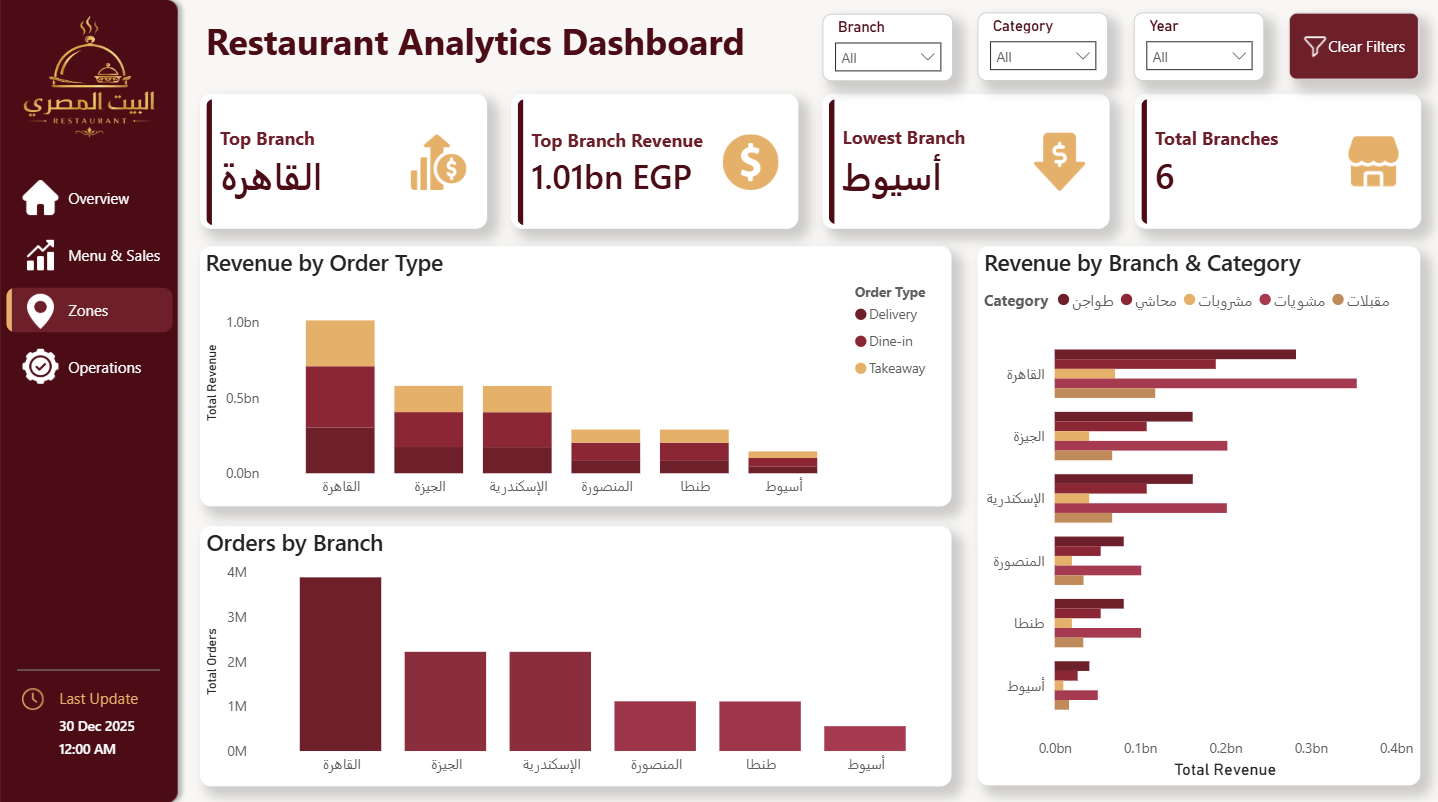

This screenshot's page, from the dashboard's own definition file:
{"tool":"powerbi","page":{"name":"Zones","canvas":[1280,720],"ordinal":2},"visuals":[{"type":"image","box":[9.1,11.8,140.9,120.9],"z":0},{"type":"cardVisual","fields":{"Data":["Page3_Measures.Top Branch"]},"box":[177.5,83.8,255,120],"z":1000},{"type":"cardVisual","fields":{"Data":["Page3_Measures.Top Branch Revenue Card"]},"box":[454.2,83.5,255,120],"z":2000},{"type":"pageNavigator","box":[5.9,155.9,148.2,190],"z":3000},{"type":"image","box":[20.5,159.5,31.9,31.4],"z":4000},{"type":"image","box":[20.5,211,31.9,31.4],"z":5000},{"type":"image","box":[20.5,261,31.9,31.4],"z":6000},{"type":"image","box":[20.5,310.5,31.9,31.4],"z":7000},{"type":"textbox","box":[177.5,11.2,1085,60],"z":9000},{"type":"cardVisual","fields":{"Data":["Page3_Measures.Total Branches"]},"box":[1008.3,83.5,254.2,119.8],"z":10000},{"type":"cardVisual","fields":{"Data":["Page3_Measures.Lowest Branch"]},"box":[731.1,83.5,255.4,119.8],"z":11000},{"type":"columnChart","title":"Revenue by Order Type","fields":{"Category":["restaurant_final.branch"],"Y":["Measures_Table.Total Revenue"],"Series":["restaurant_final.order_type"]},"box":[177.9,219.1,668.2,231.2],"z":12000},{"type":"clusteredBarChart","title":"Revenue by Branch & Category","fields":{"Category":["restaurant_final.branch"],"Y":["Measures_Table.Total Revenue"],"Series":["restaurant_final.category"]},"box":[869.1,219.1,393.4,479.4],"z":13000},{"type":"clusteredColumnChart","title":"Orders by Branch","fields":{"Category":["restaurant_final.branch"],"Y":["Measures_Table.Total Orders"]},"box":[177.9,467.3,668.2,231.2],"z":15000},{"type":"shape","box":[15.6,583.3,126.7,24.4],"z":16000},{"type":"actionButton","box":[15.5,608.2,28.2,27.3],"z":17000},{"type":"slicer","fields":{"Values":["restaurant_final.branch"]},"box":[731,12,116,60],"z":18000},{"type":"slicer","fields":{"Values":["restaurant_final.category"]},"box":[869.2,10.9,116.2,60.5],"z":19000},{"type":"slicer","fields":{"Values":["restaurant_final.Year"]},"box":[1007.6,10.9,116.2,60.5],"z":20000},{"type":"actionButton","box":[1146,11,116,60],"z":21000},{"type":"textbox","box":[48.1,608.1,94.4,27.5],"z":22000},{"type":"cardVisual","fields":{"Data":["Measures_Table.Last Updated"]},"box":[36,622,106,61.3],"z":23000}]}

Visuals, with their boxes in screenshot pixels (x1, y1, x2, y2), scaled from the page's 1280x720 canvas onto the 1438x802 screenshot:
image: <box>10,13,169,148</box>
cardVisual - Page3_Measures.Top Branch: <box>199,93,486,227</box>
cardVisual - Page3_Measures.Top Branch Revenue Card: <box>510,93,797,227</box>
pageNavigator: <box>7,174,173,385</box>
image: <box>23,178,59,213</box>
image: <box>23,235,59,270</box>
image: <box>23,291,59,326</box>
image: <box>23,346,59,381</box>
textbox: <box>199,12,1418,79</box>
cardVisual - Page3_Measures.Total Branches: <box>1133,93,1418,226</box>
cardVisual - Page3_Measures.Lowest Branch: <box>821,93,1108,226</box>
"Revenue by Order Type" columnChart: <box>200,244,951,502</box>
"Revenue by Branch & Category" clusteredBarChart: <box>976,244,1418,778</box>
"Orders by Branch" clusteredColumnChart: <box>200,521,951,778</box>
shape: <box>18,650,160,677</box>
actionButton: <box>17,677,49,708</box>
slicer - restaurant_final.branch: <box>821,13,952,80</box>
slicer - restaurant_final.category: <box>976,12,1107,80</box>
slicer - restaurant_final.Year: <box>1132,12,1263,80</box>
actionButton: <box>1287,12,1418,79</box>
textbox: <box>54,677,160,708</box>
cardVisual - Measures_Table.Last Updated: <box>40,693,160,761</box>
